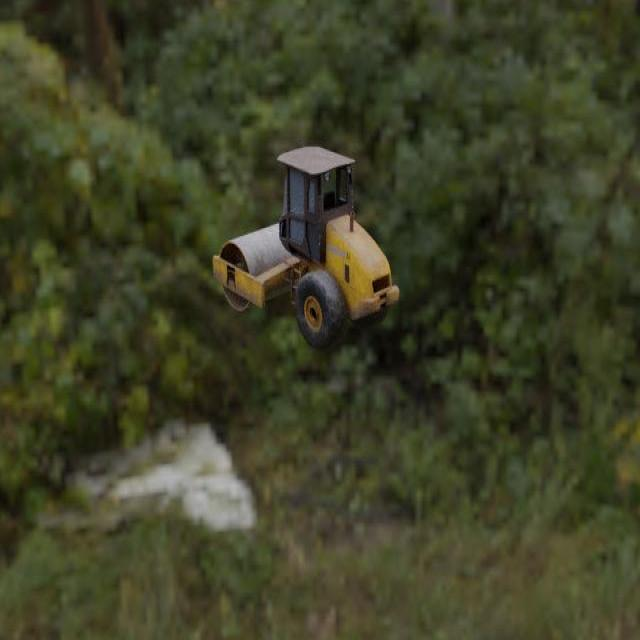Roller: (212, 145, 399, 351)
